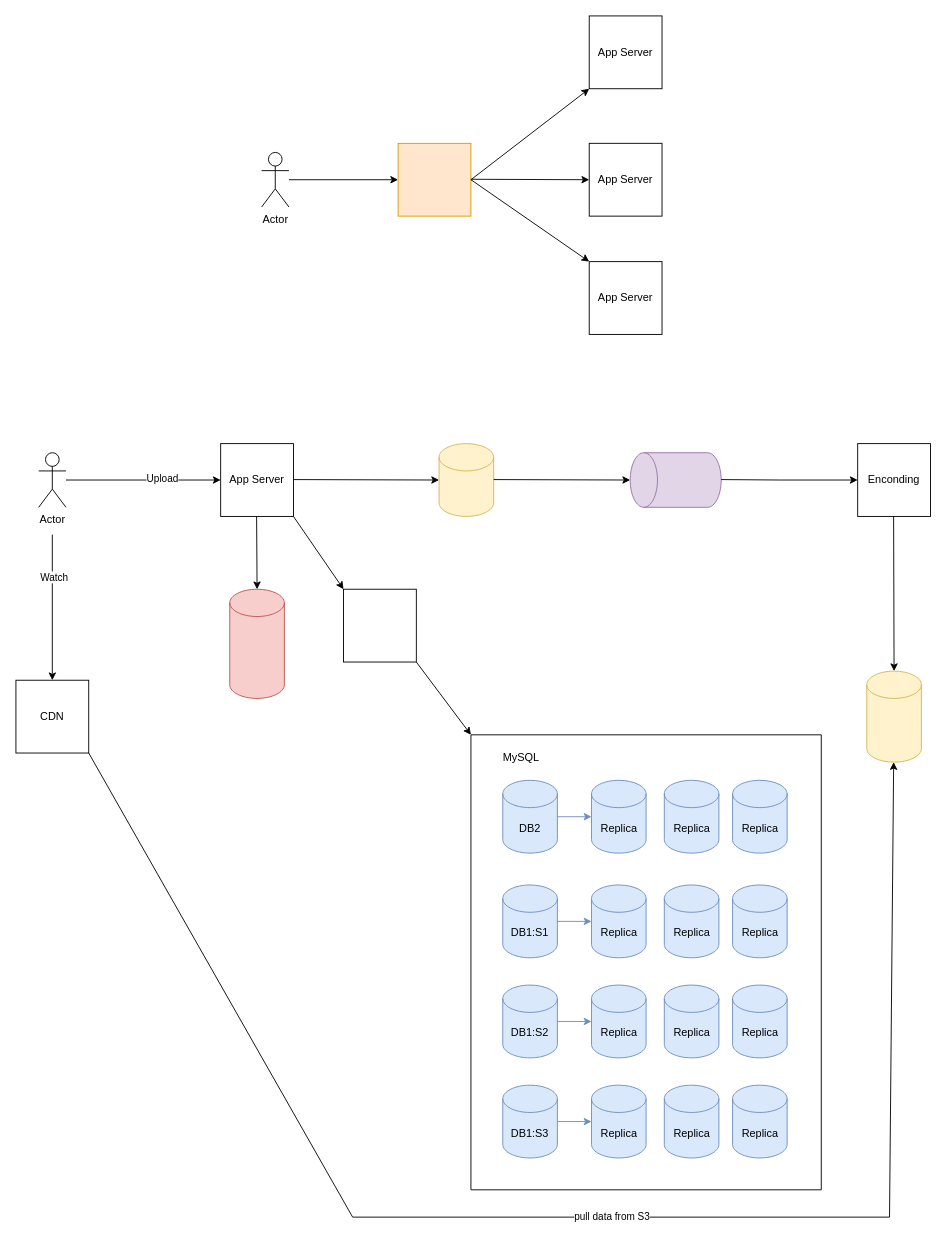
The diagram is 946 pixels wide and 1240 high, and some of its shapes have lost their labels. Here are the shapes that lost their labels. From the top down, the centre of each, then its label:
(434,179): Load Balancer
(466,479): Object Store (S3)
(675,479): Queue
(256,643): Cache like Redis to store comments and likes
(379,625): Vitess (routing and sharding)
(893,716): Object Store (encoded)
